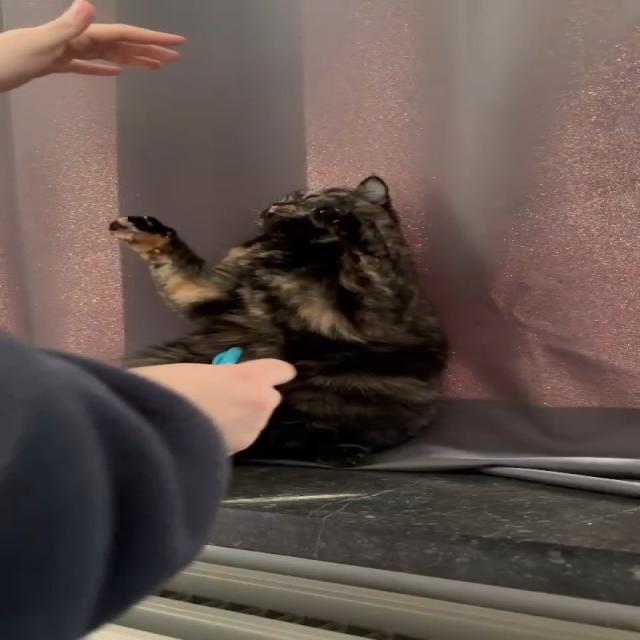authorized: (107, 173, 450, 469)
